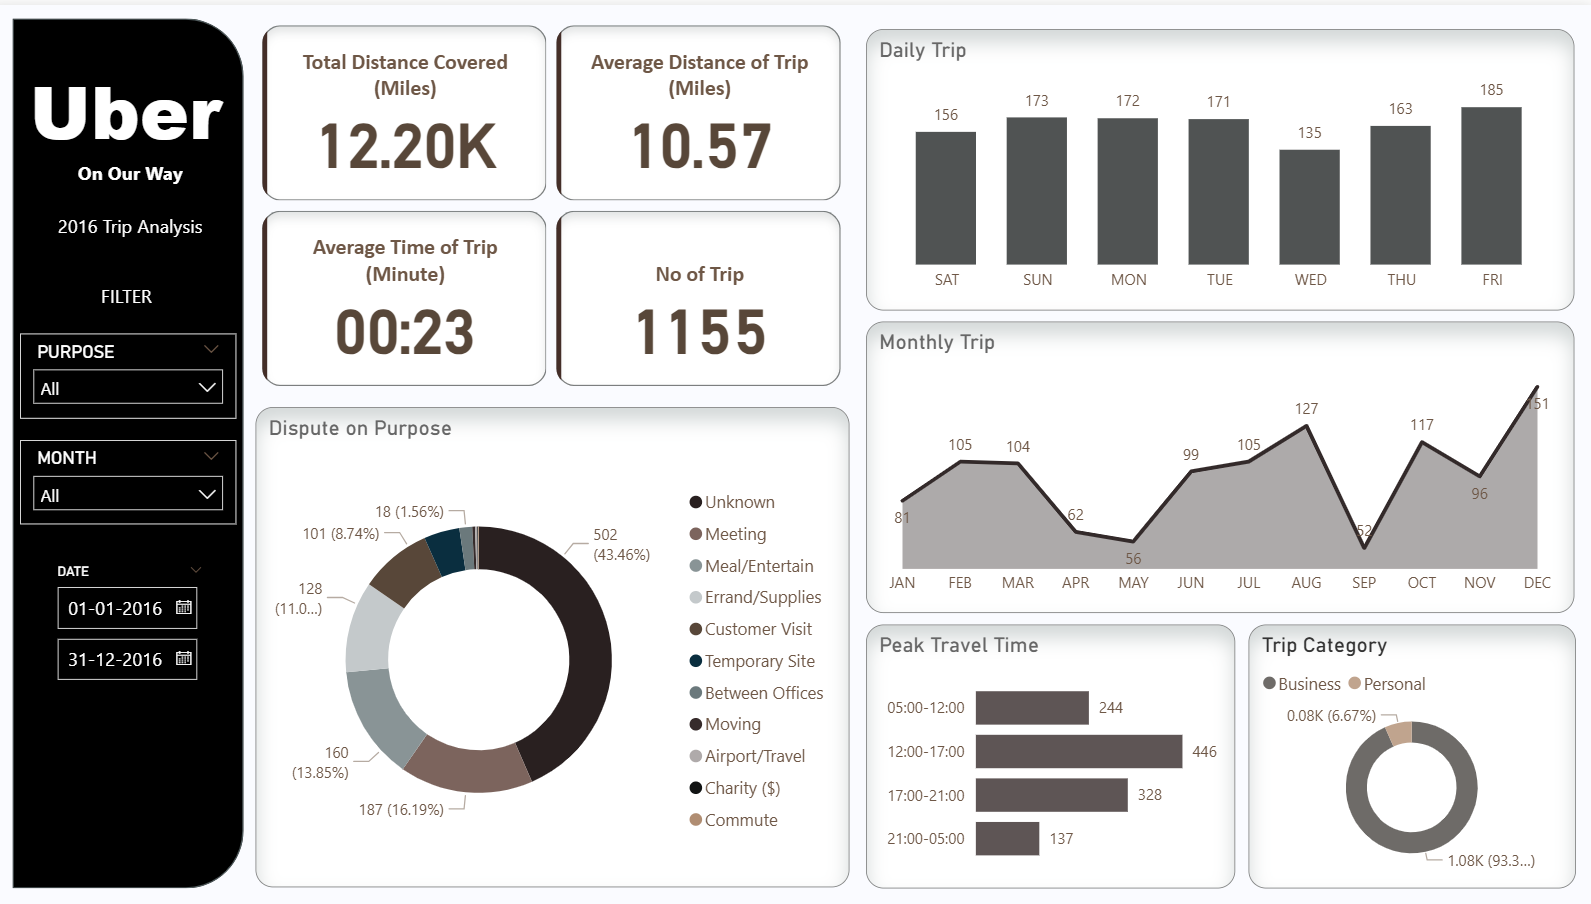

Layout of this report page (visuals, bound fields, positions):
{"tool":"powerbi","page":{"name":"Page 1","canvas":[1280,720],"ordinal":0},"visuals":[{"type":"donutChart","title":"Trip Category","fields":{"Category":["UberDataset_csv.CATEGORY"],"Y":["CountNonNull(UberDataset_csv.CATEGORY)"]},"box":[1003.7,494,261.2,210.6],"z":0},{"type":"donutChart","title":"Dispute on Purpose","fields":{"Category":["UberDataset_csv.PURPOSE"],"Y":["CountNonNull(UberDataset_csv.PURPOSE)"]},"box":[211.7,321.2,473.9,383.4],"z":1000},{"type":"columnChart","title":"Daily Trip","fields":{"Category":["UberDataset_csv.DAY_S"],"Y":["CountNonNull(UberDataset_csv.CATEGORY)"]},"box":[699.3,19,565.6,224.3],"z":2000},{"type":"areaChart","title":"Monthly Trip","fields":{"Category":["UberDataset_csv.MONTH_S"],"Y":["CountNonNull(UberDataset_csv.CATEGORY)"]},"box":[699.3,252.8,565.6,232.8],"z":3000},{"type":"clusteredBarChart","title":"Peak Travel Time","fields":{"Y":["CountNonNull(UberDataset_csv.CATEGORY)"],"Category":["UberDataset_csv.TimeGroup"]},"box":[699.3,494,294.9,210.6],"z":4000},{"type":"cardVisual","fields":{"Data":["UberDataset_csv.Total Distance Covered","UberDataset_csv.Average Distance of Trip","UberDataset_csv.Average Time of Trip","UberDataset_csv.No of Trip"]},"box":[211.7,10.5,473.9,299.1],"z":5000},{"type":"shape","box":[18,10.8,184.3,694.3],"z":6000},{"type":"textbox","box":[21.5,37.1,173.6,94.6],"z":7000},{"type":"textbox","box":[25.1,118.5,173.6,35.9],"z":8000},{"type":"textbox","box":[25.1,160.4,173.6,35.9],"z":9000},{"type":"slicer","fields":{"Values":["UberDataset_csv.PURPOSE"]},"box":[23.9,262.1,172.4,68.2],"z":10000},{"type":"textbox","box":[35.9,216.7,146,35.9],"z":11000},{"type":"slicer","fields":{"Values":["UberDataset_csv.START_DATE"]},"box":[40.7,440.5,141.2,106.5],"z":12000},{"type":"slicer","fields":{"Values":["UberDataset_csv.Month"]},"box":[23.9,347.1,172.4,67],"z":13000}]}

Visuals, with their boxes in screenshot pixels (x1, y1, x2, y2), scaled from the page's 1280x720 canvas onto the 1591x904 screenshot:
"Trip Category" donutChart: (1248, 620, 1572, 885)
"Dispute on Purpose" donutChart: (263, 403, 852, 885)
"Daily Trip" columnChart: (869, 24, 1572, 305)
"Monthly Trip" areaChart: (869, 317, 1572, 610)
"Peak Travel Time" clusteredBarChart: (869, 620, 1236, 885)
cardVisual - UberDataset_csv.Total Distance Covered x UberDataset_csv.Average Distance of Trip: (263, 13, 852, 389)
shape: (22, 14, 251, 885)
textbox: (27, 47, 243, 165)
textbox: (31, 149, 247, 194)
textbox: (31, 201, 247, 246)
slicer - UberDataset_csv.PURPOSE: (30, 329, 244, 415)
textbox: (45, 272, 226, 317)
slicer - UberDataset_csv.START_DATE: (51, 553, 226, 687)
slicer - UberDataset_csv.Month: (30, 436, 244, 520)
